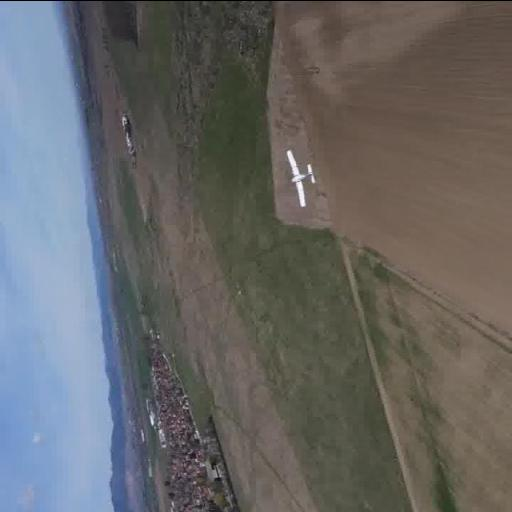uav: (278, 148, 328, 210)
